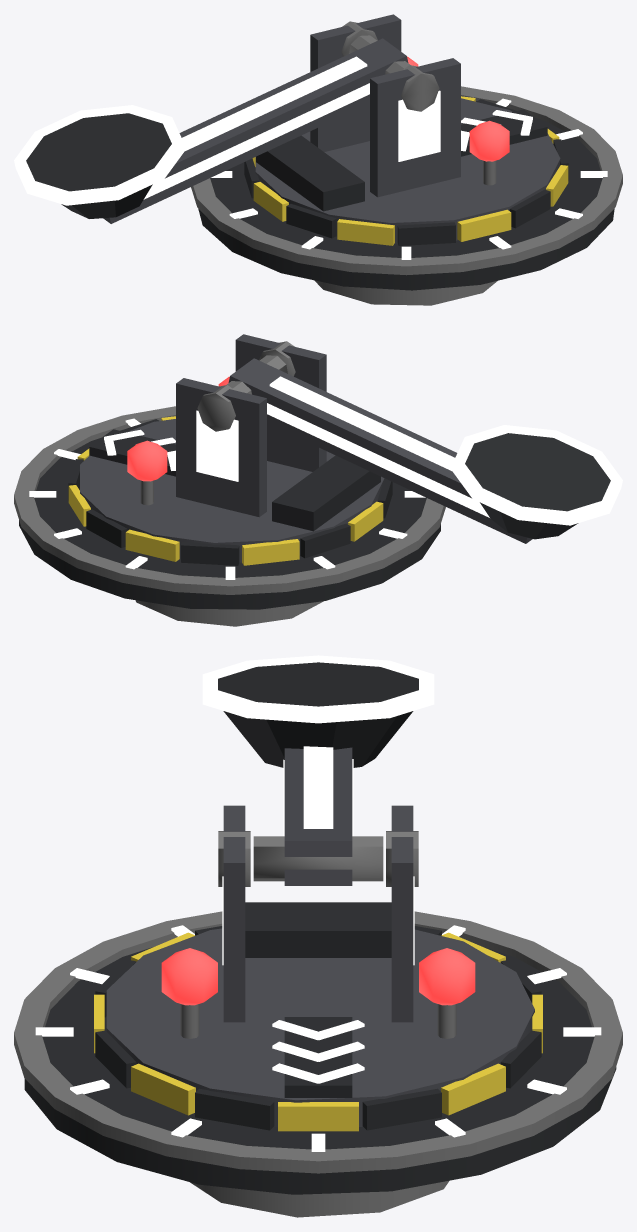
File: Relay_Launcher_v3.glb
3 views of the same model, one above another, from view 1: azimuth 30°, elevation 25°; view 2: azimuth 150°, elevation 25°; view 3: azimuth 270°, elevation 25° (orthographic). The views are drawn at different scales.
Parts seen in each view (by area): view 1: Turret, Relay_Launcher_v3, Arm; view 2: Turret, Relay_Launcher_v3, Arm; view 3: Turret, Relay_Launcher_v3, Arm.
Boxes of the visible parts, box(x1,y1,x2,y2) form: Turret: box(244, 14, 568, 245); Relay_Launcher_v3: box(191, 86, 622, 305); Arm: box(14, 35, 410, 223); Turret: box(68, 334, 392, 565); Relay_Launcher_v3: box(14, 406, 445, 626); Arm: box(226, 355, 622, 543); Turret: box(94, 805, 542, 1131); Relay_Launcher_v3: box(14, 911, 622, 1217); Arm: box(202, 655, 434, 885).
Bounding box in the file's own units: 6.82 × 2.52 × 4.5.
